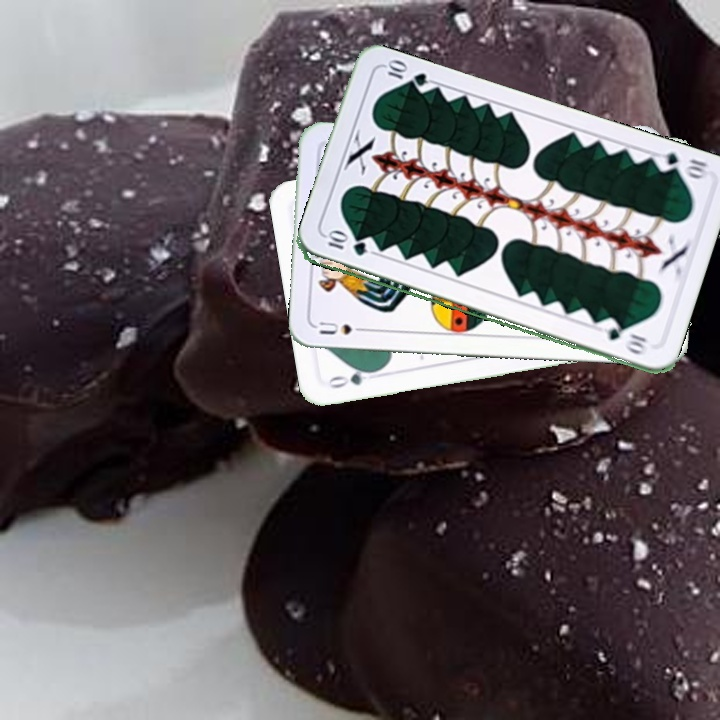G10: (651, 148, 709, 182), (322, 231, 370, 259)
GO: (323, 365, 381, 391)
SU: (315, 318, 372, 337)
